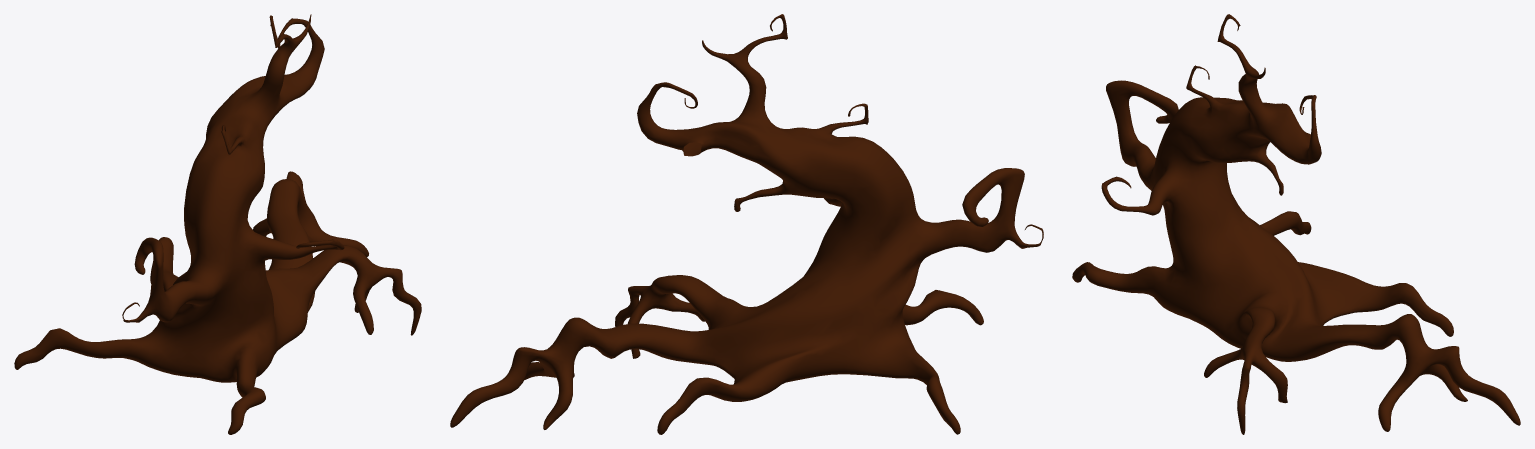
Rendered from Tree_2_8K.fbx.
The picture shows the model from 3 angles, left to right: view 1: azimuth 30°, elevation 25°; view 2: azimuth 150°, elevation 25°; view 3: azimuth 270°, elevation 25°; orthographic projection. The views are drawn at different scales.
Parts seen in each view (by area): view 1: Tree 2 8K; view 2: Tree 2 8K; view 3: Tree 2 8K.
Boxes of the visible parts, box(x1,y1,x2,y2) form: Tree 2 8K: box(14, 14, 421, 434); Tree 2 8K: box(450, 14, 1043, 434); Tree 2 8K: box(1072, 14, 1520, 434).
Size of the model in its own units: 585 by 512 by 593.
